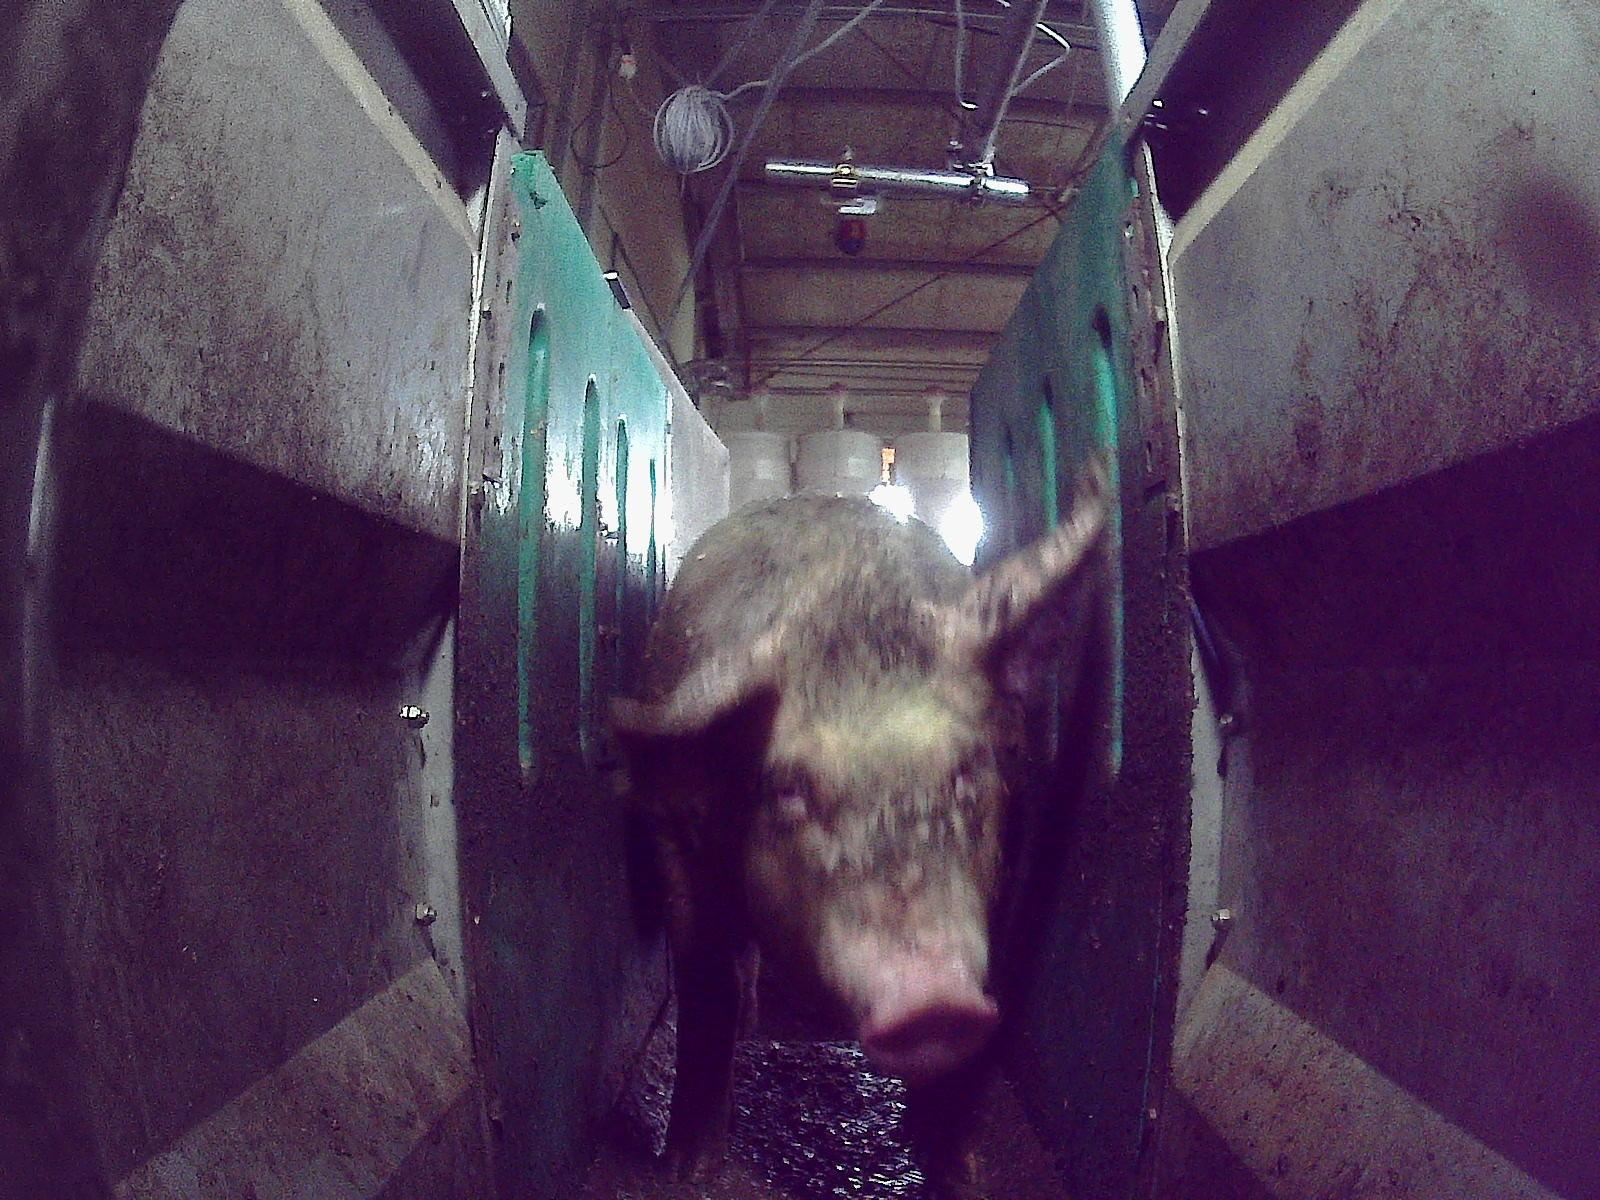Face: (729, 597, 1001, 1081)
